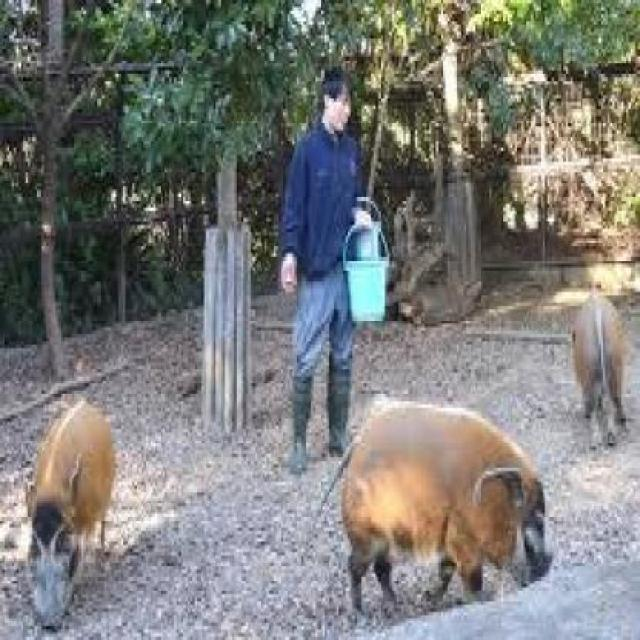wildboar: (296, 392, 562, 618), (13, 391, 124, 640), (562, 287, 635, 458)
